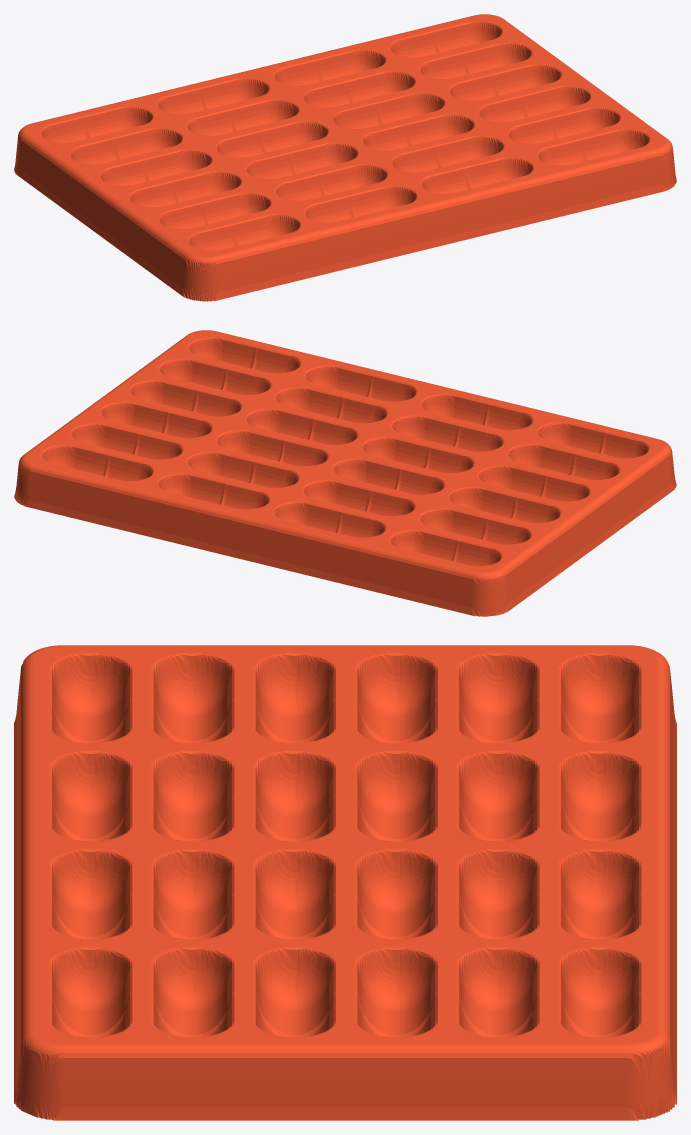
File: mold.glb
3 renders of one model, top to bottom at view 1: azimuth 30°, elevation 25°; view 2: azimuth 150°, elevation 25°; view 3: azimuth 270°, elevation 25°, orthographic. The views are drawn at different scales.
Visible parts, largest first — view 1: geometry_0; view 2: geometry_0; view 3: geometry_0.
Part boxes in pixels (x1,y1,x2,y2): geometry_0: [14, 14, 676, 301]; geometry_0: [14, 330, 676, 616]; geometry_0: [14, 645, 676, 1120].
Bounding box in the file's own units: 0.182 × 0.014 × 0.1231.
